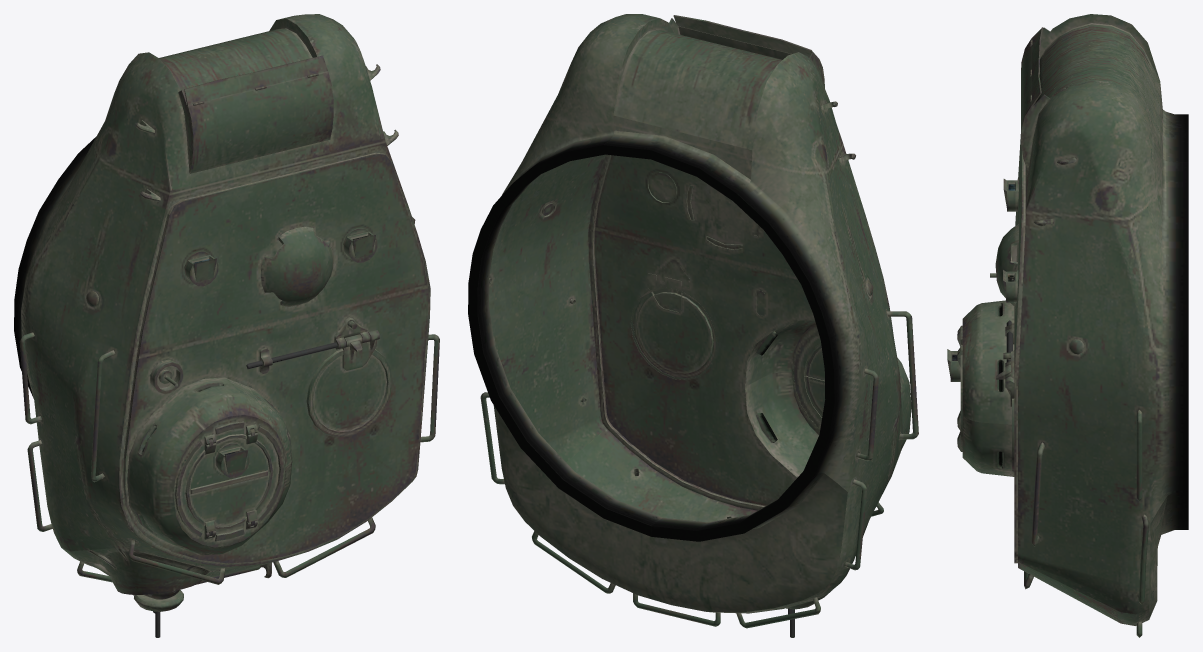
The model's file is Turret_01.glb.
3 renders of one model, left to right at view 1: azimuth 30°, elevation 25°; view 2: azimuth 150°, elevation 25°; view 3: azimuth 270°, elevation 25°, orthographic. The views are drawn at different scales.
Visible parts, largest first — view 1: set_0_group_0; view 2: set_0_group_0; view 3: set_0_group_0.
Part boxes in pixels (x1,y1,x2,y2): set_0_group_0: (14, 14, 439, 637); set_0_group_0: (468, 14, 918, 637); set_0_group_0: (947, 14, 1188, 637).
Bounding box in the file's own units: 2.38 × 3.27 × 1.25.
Materials: 1 (1 with a texture image).
